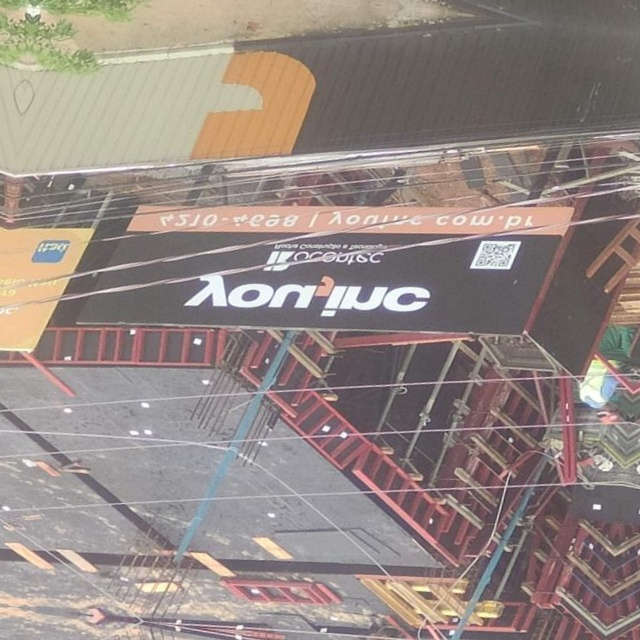qr-code: (475, 240, 516, 270)
